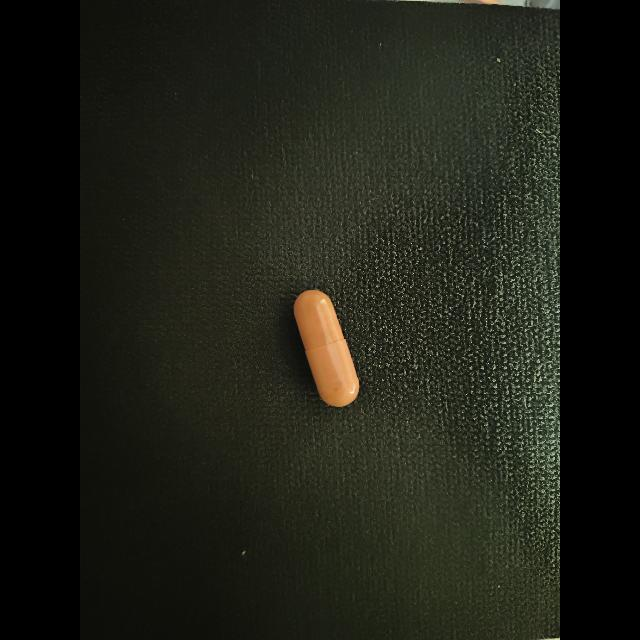Intact Capsule: (294, 289, 359, 407)
